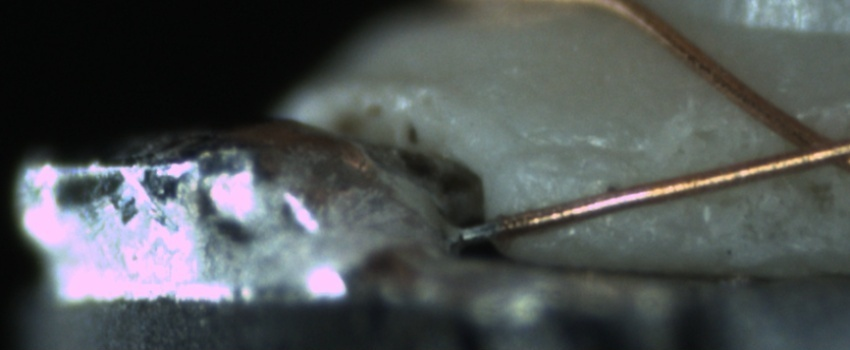CL: (761, 109, 850, 176)
DL: (511, 122, 648, 190)
TS: (456, 218, 500, 243)
